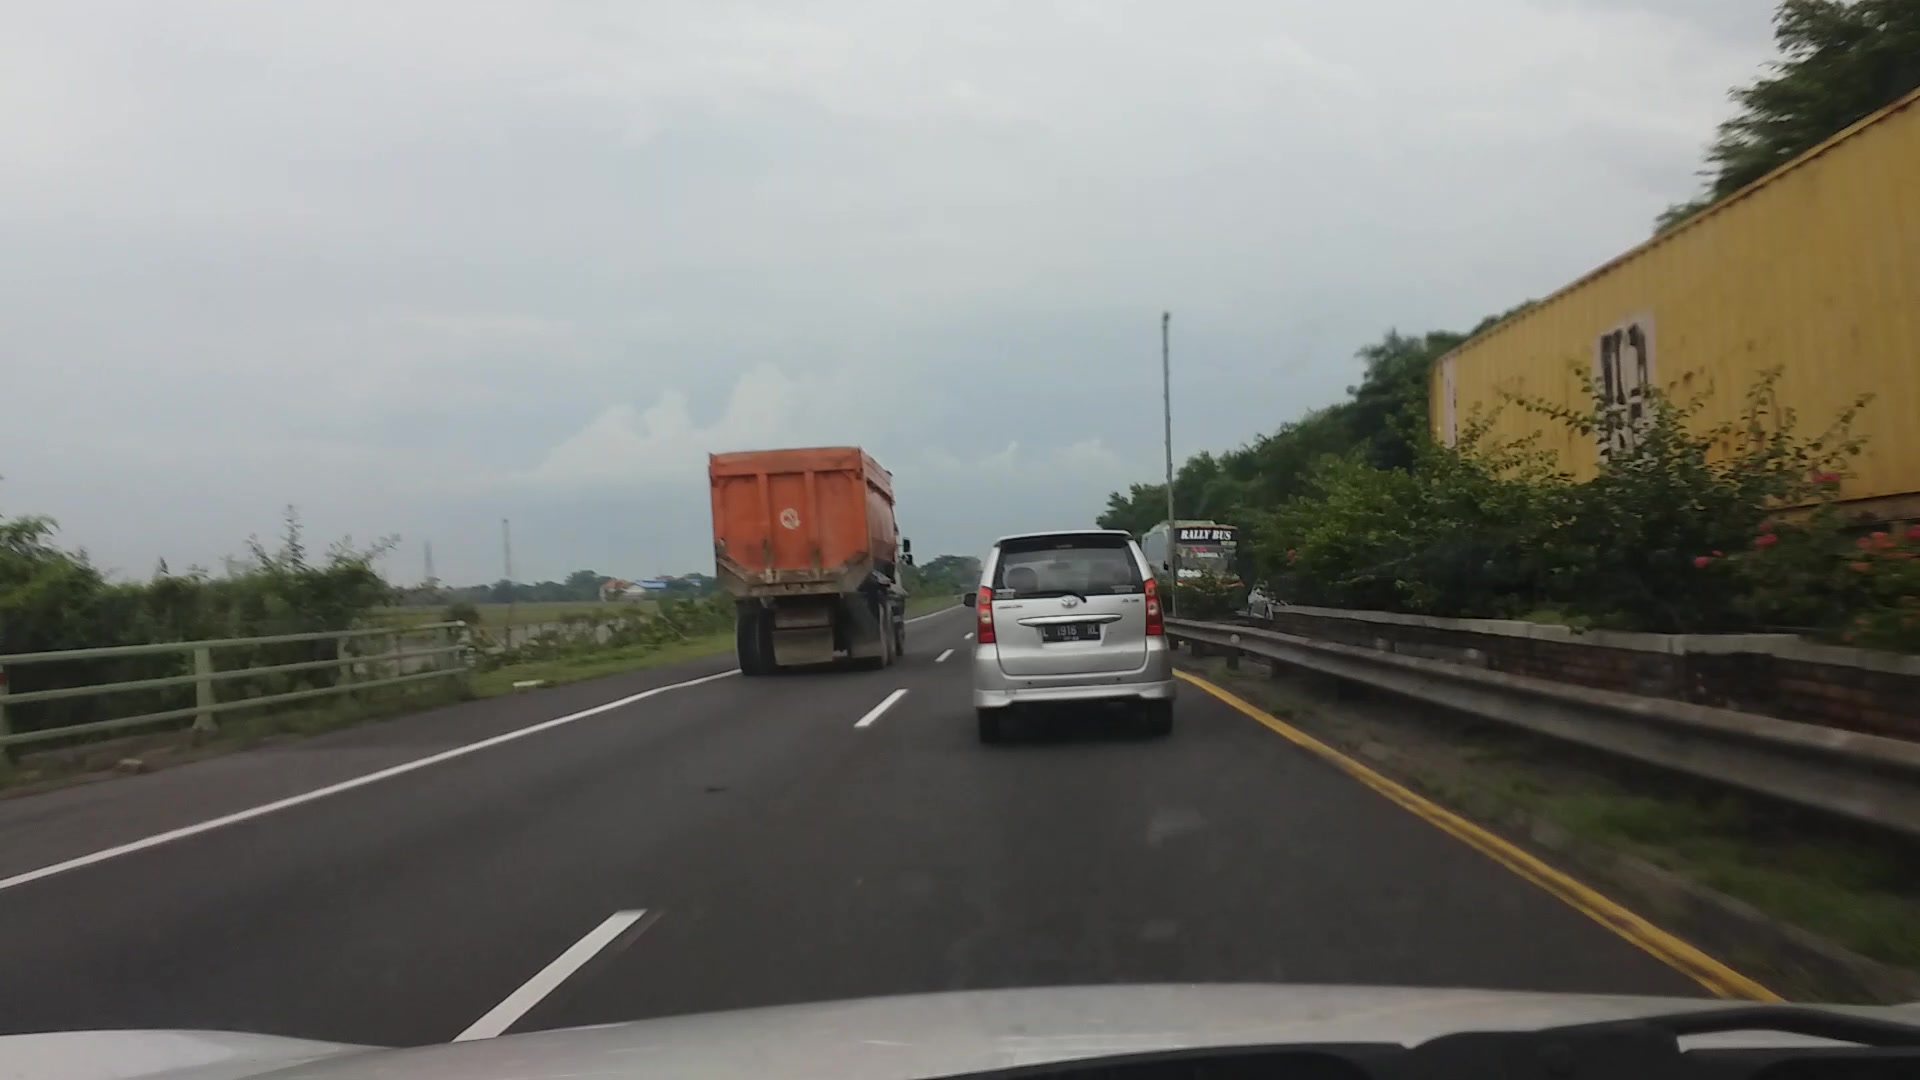plate_positive: (1040, 622, 1100, 642)
